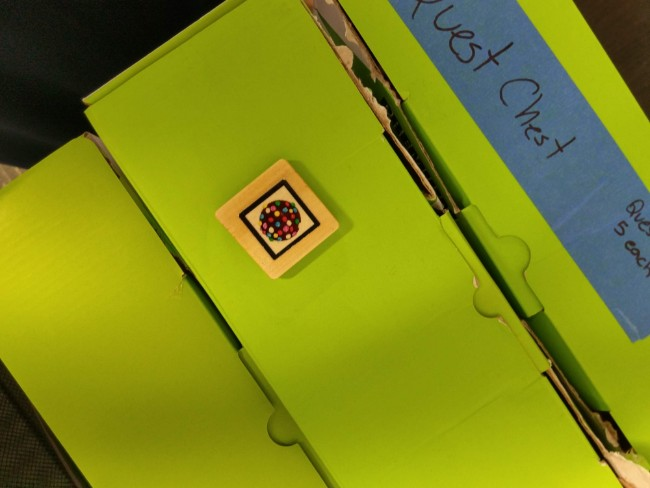cookie: (228, 173, 328, 265)
